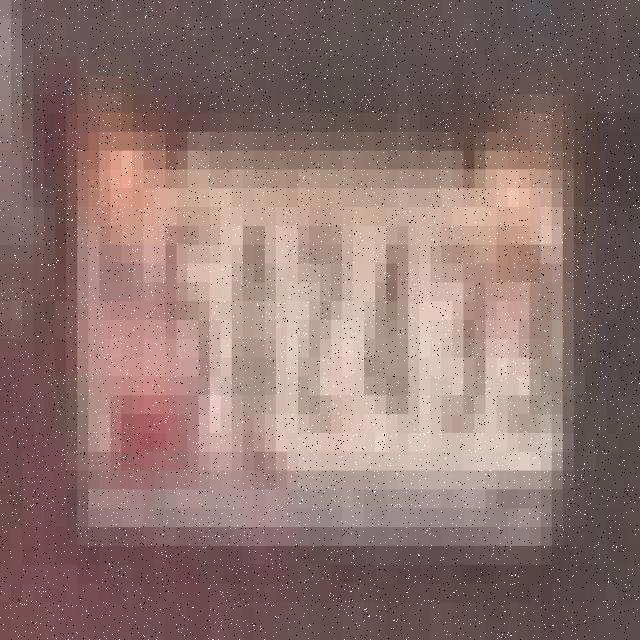licenseplate: (56, 88, 575, 561)
